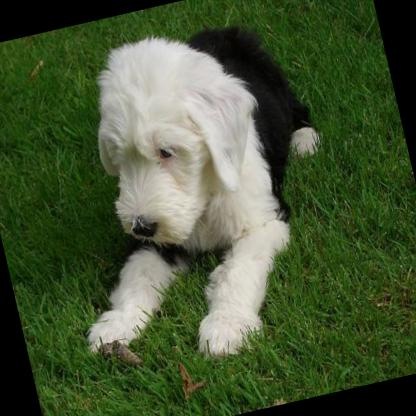Old_English_sheepdog: (19, 0, 367, 388)
